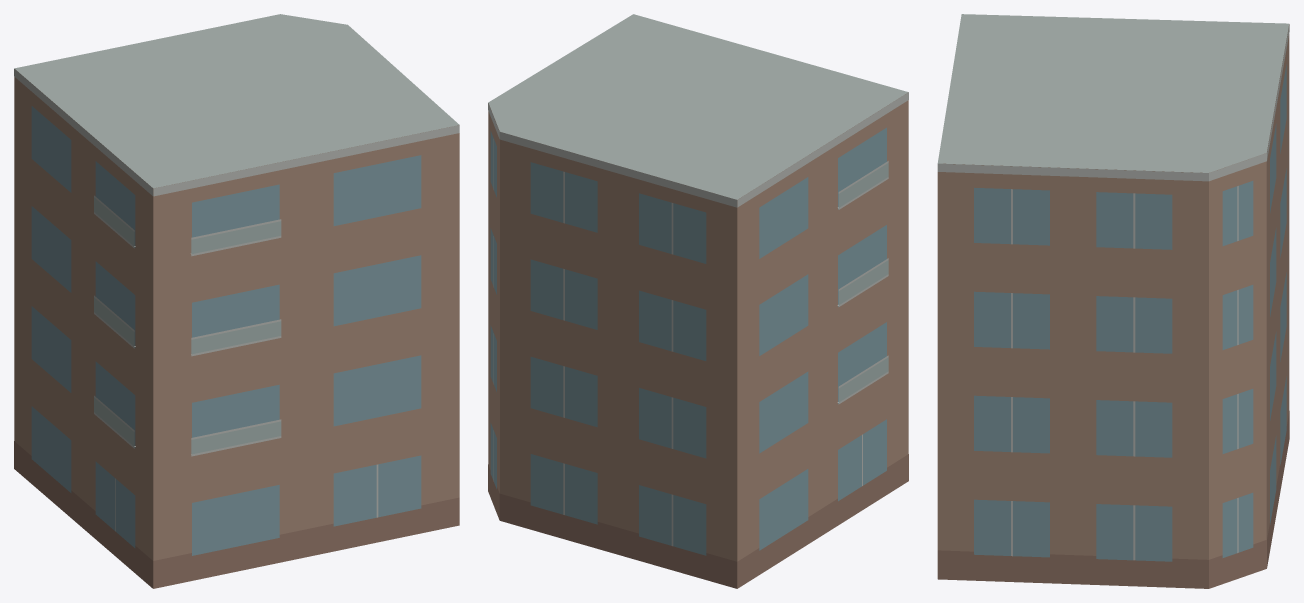
Rendered from survey-upis-32800297.glb.
3 views of the same model, side by side, from view 1: azimuth 30°, elevation 25°; view 2: azimuth 150°, elevation 25°; view 3: azimuth 270°, elevation 25° (orthographic). The views are drawn at different scales.
Visible parts, largest first — view 1: survey-upis-32800297.tmp; view 2: survey-upis-32800297.tmp; view 3: survey-upis-32800297.tmp.
Part boxes in pixels (x1=…): survey-upis-32800297.tmp: x1=14, y1=14, x2=459, y2=588; survey-upis-32800297.tmp: x1=488, y1=14, x2=908, y2=588; survey-upis-32800297.tmp: x1=937, y1=14, x2=1289, y2=588.
Bounding box in the file's own units: 9.93 × 12.1 × 9.29.
